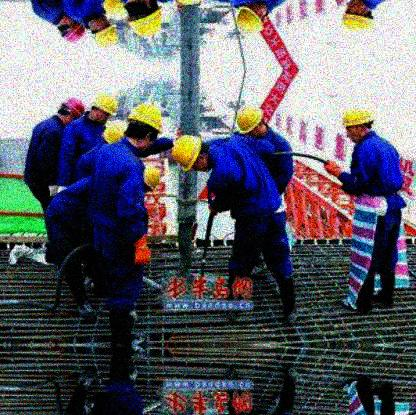helmet: (125, 105, 162, 149), (171, 134, 211, 173), (127, 1, 165, 37), (233, 1, 270, 35), (236, 105, 268, 137), (341, 111, 375, 141), (341, 1, 373, 32), (88, 96, 118, 126), (58, 95, 86, 126), (89, 19, 119, 45), (58, 17, 86, 43)
